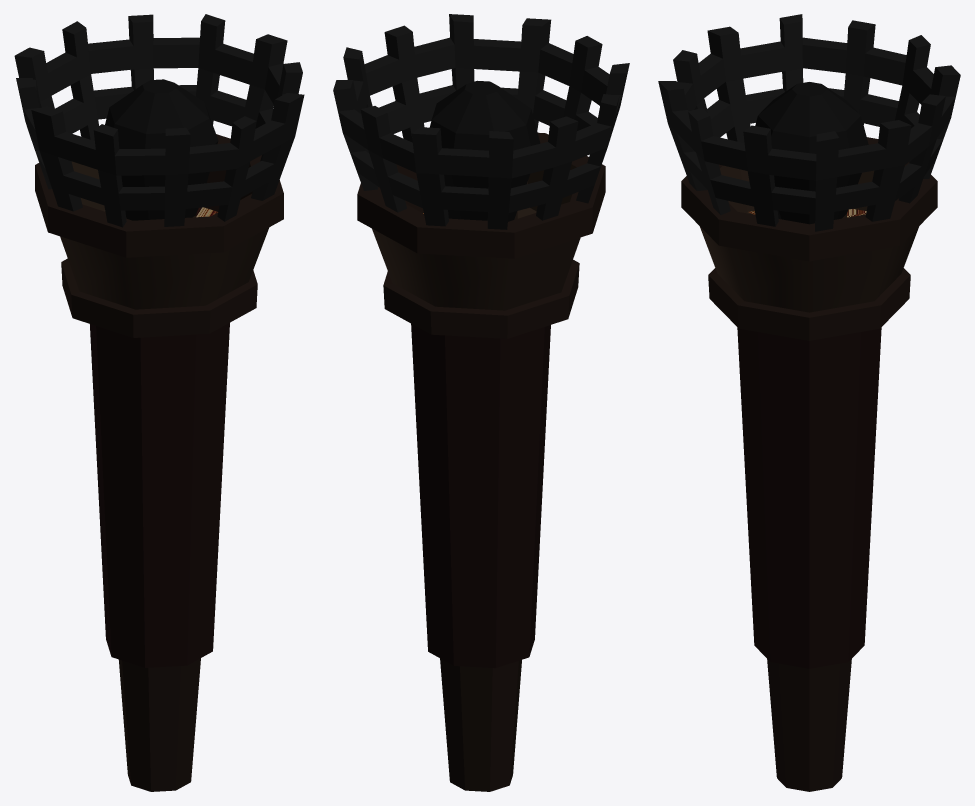
Rendered from Fire_0.FBX.
3 views of the same model, side by side, from view 1: azimuth 30°, elevation 25°; view 2: azimuth 150°, elevation 25°; view 3: azimuth 270°, elevation 25° (orthographic).
Visible parts, largest first — view 1: Cylinder001; view 2: Cylinder001; view 3: Cylinder001.
Boxes of the visible parts, x1,y1,x2,y2 form: Cylinder001: (14,14,304,791); Cylinder001: (333,14,629,791); Cylinder001: (658,14,960,791).
Bounding box in the file's own units: 6.96 × 17.76 × 6.96.
